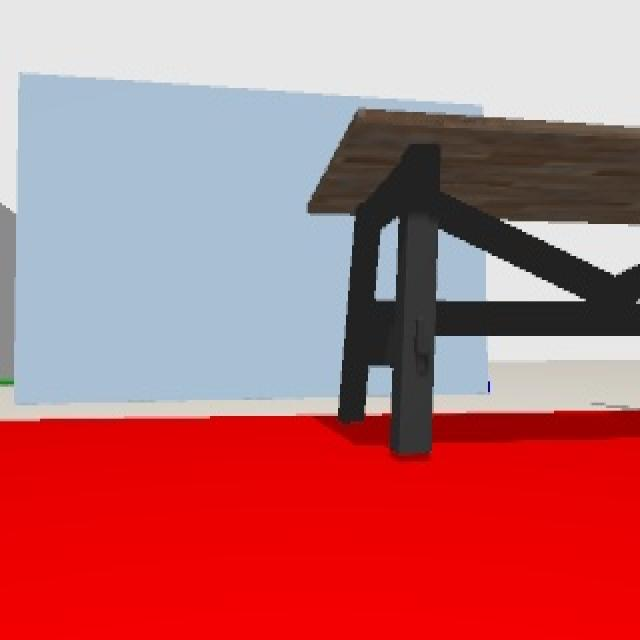dining: (302, 104, 640, 453)
